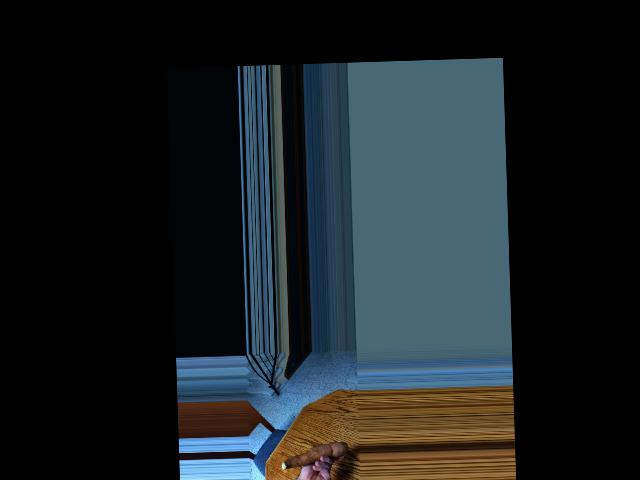sweet_potato: (279, 439, 347, 470)
